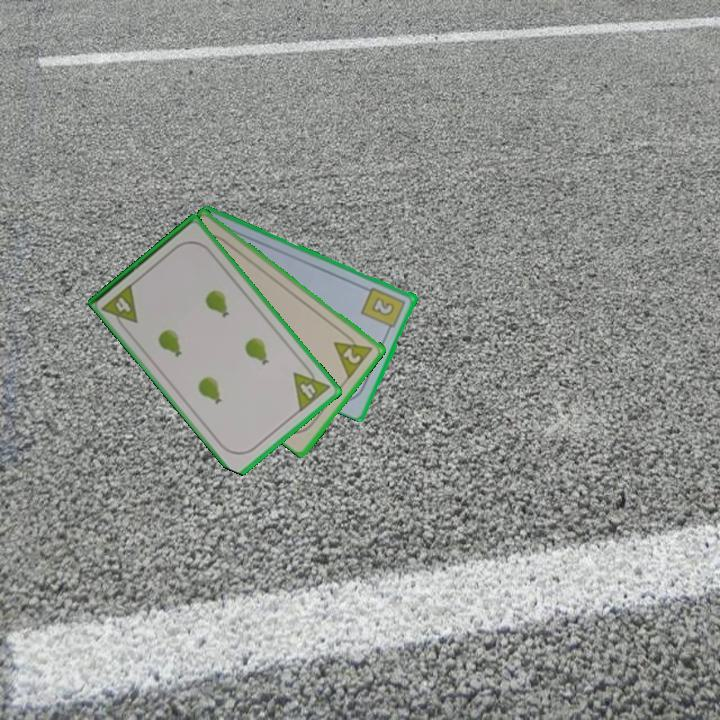2b: (358, 284, 408, 335)
2p: (330, 328, 376, 381)
4p: (290, 360, 333, 415), (99, 280, 141, 333)
